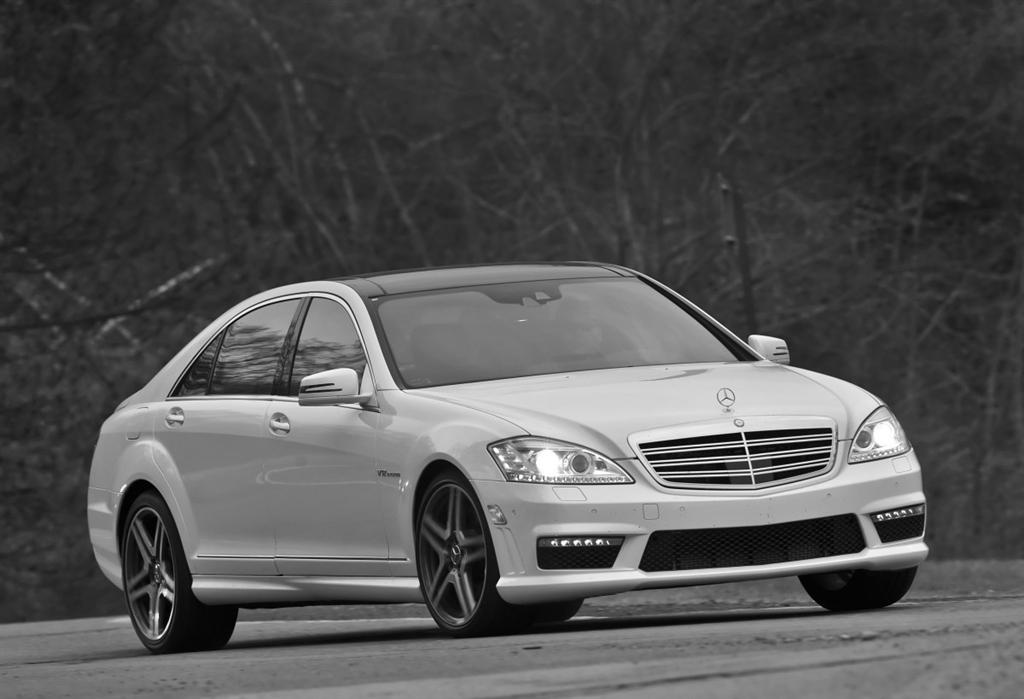car: (83, 256, 934, 660)
